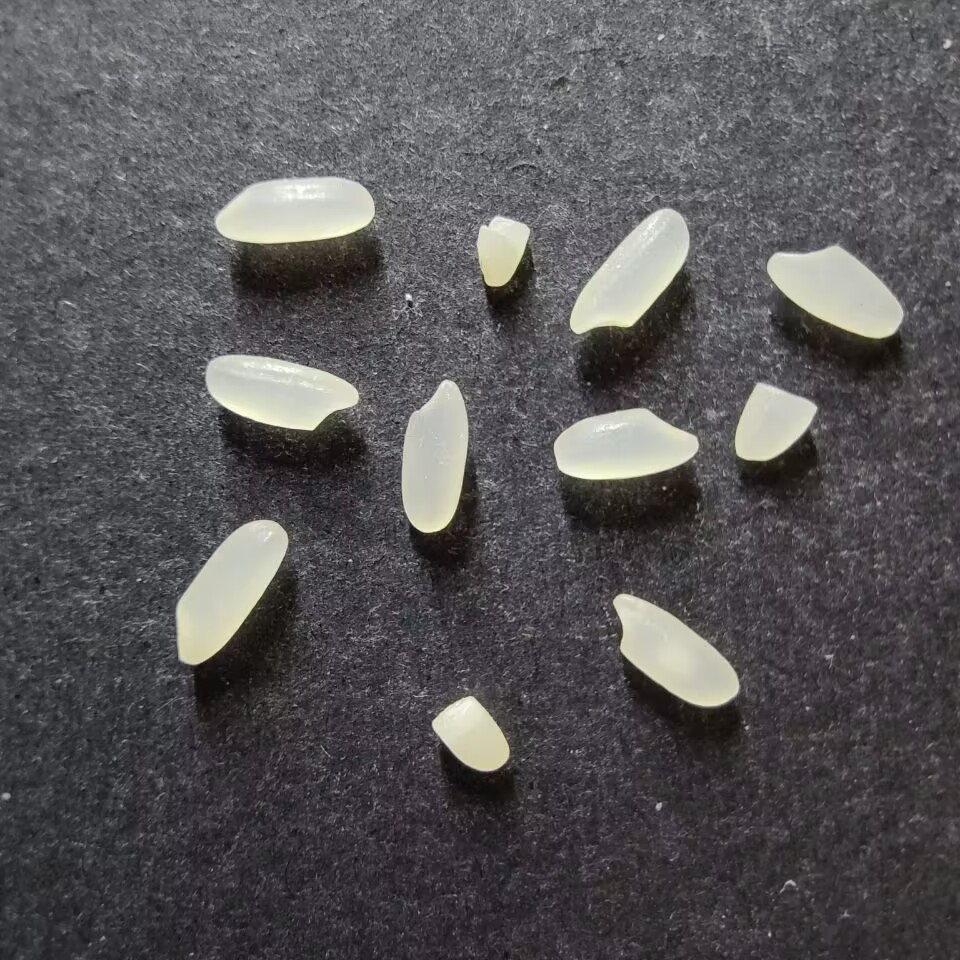broken: (733, 382, 819, 461), (431, 694, 510, 772), (476, 215, 529, 287)
rice: (175, 518, 288, 665), (568, 207, 689, 334), (611, 593, 739, 707), (766, 245, 903, 339), (204, 355, 359, 431), (215, 176, 375, 244), (552, 407, 699, 480), (400, 378, 469, 533)
